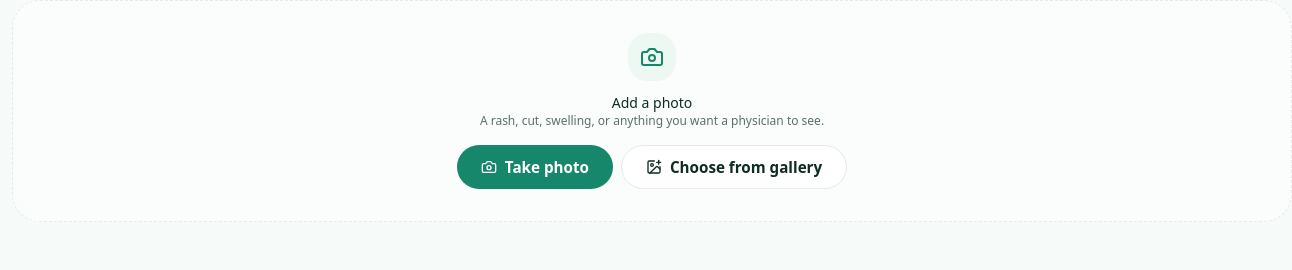
PhotoCapture › falls back to gallery when the camera is unavailable
Click the button "Take photo".
click(535, 167)  # box [457, 145, 613, 189]
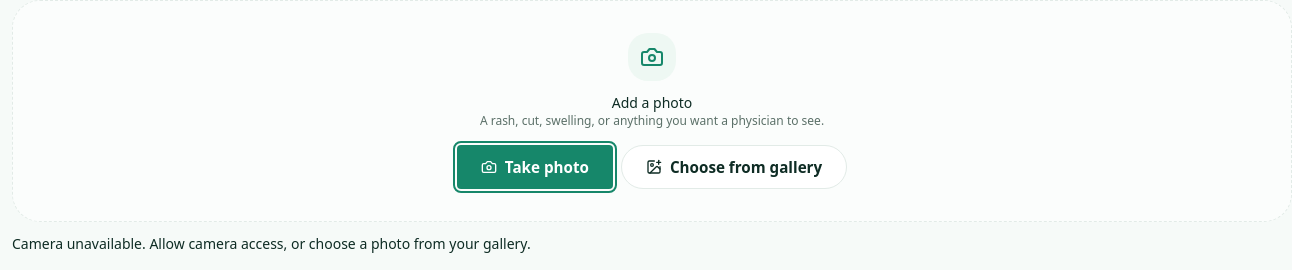
expect the button "Choose from gallery" is shown: met, box [621, 145, 847, 189]
expect the message shows "Camera unavailable": met, box [12, 234, 531, 253]
